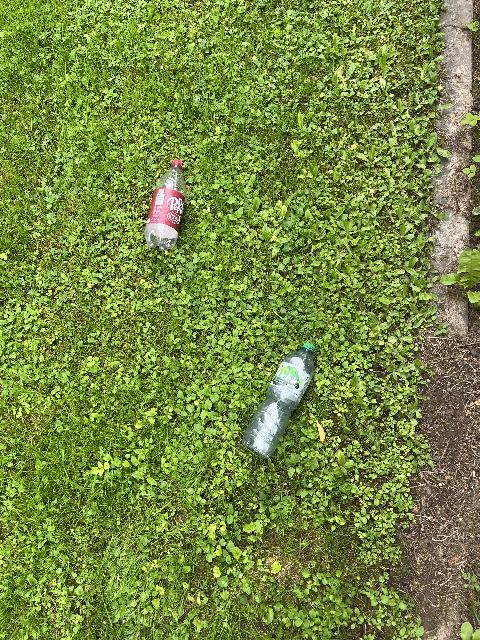plastic_bottle: (239, 339, 317, 463), (140, 158, 188, 251)
